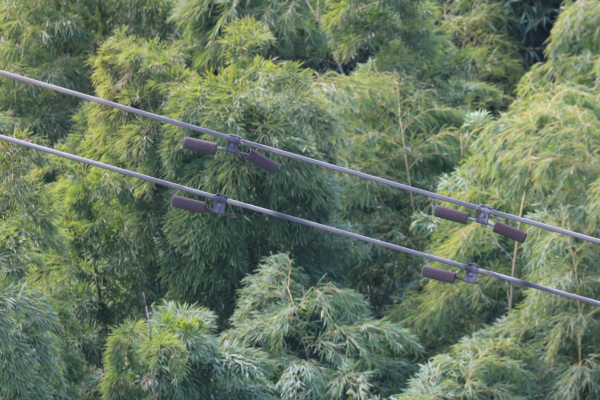damper: (431, 200, 530, 245), (180, 132, 281, 174)
damper_defect: (167, 190, 239, 220), (418, 260, 488, 288)
